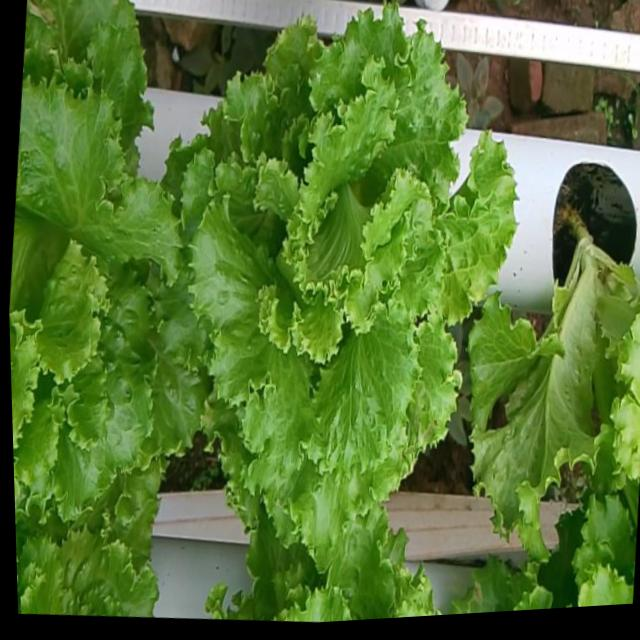Mature: (181, 2, 514, 541), (9, 68, 205, 514)
